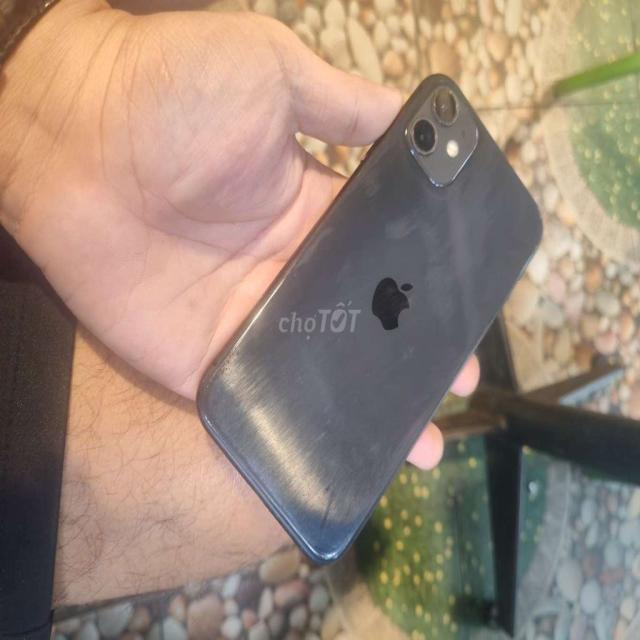gen_11: (197, 75, 541, 561)
scratch: (428, 172, 456, 190), (402, 118, 412, 140), (408, 144, 418, 157)
